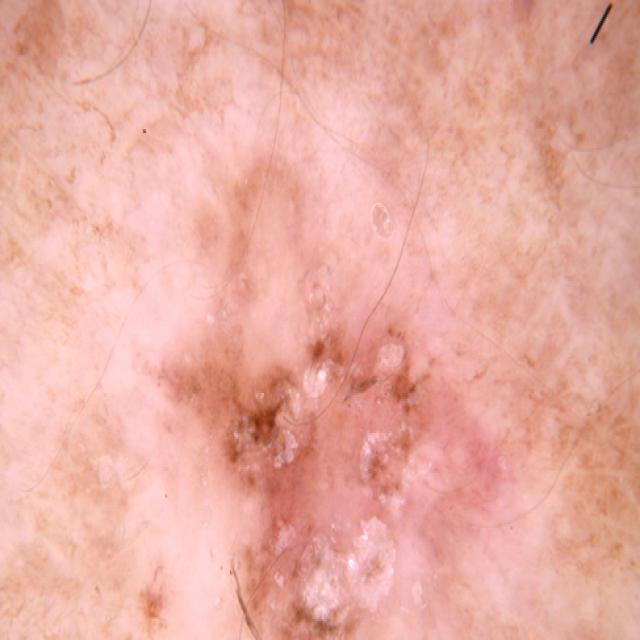Carcinoma: (99, 201, 546, 640)
